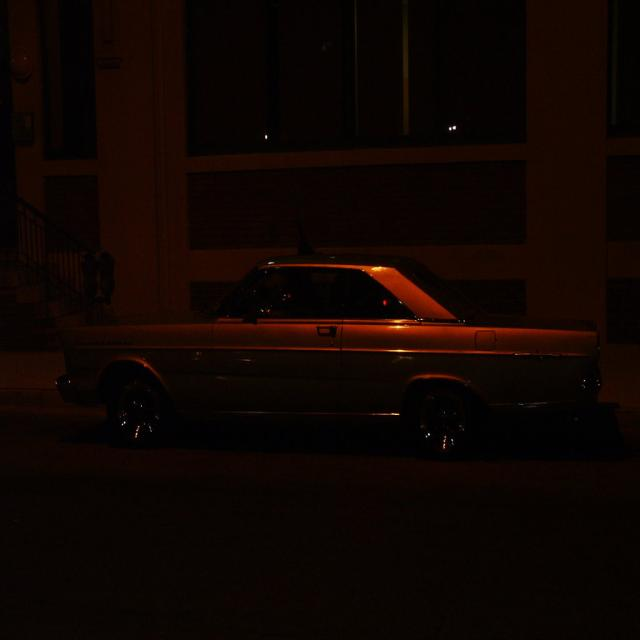car: (61, 256, 619, 480)
